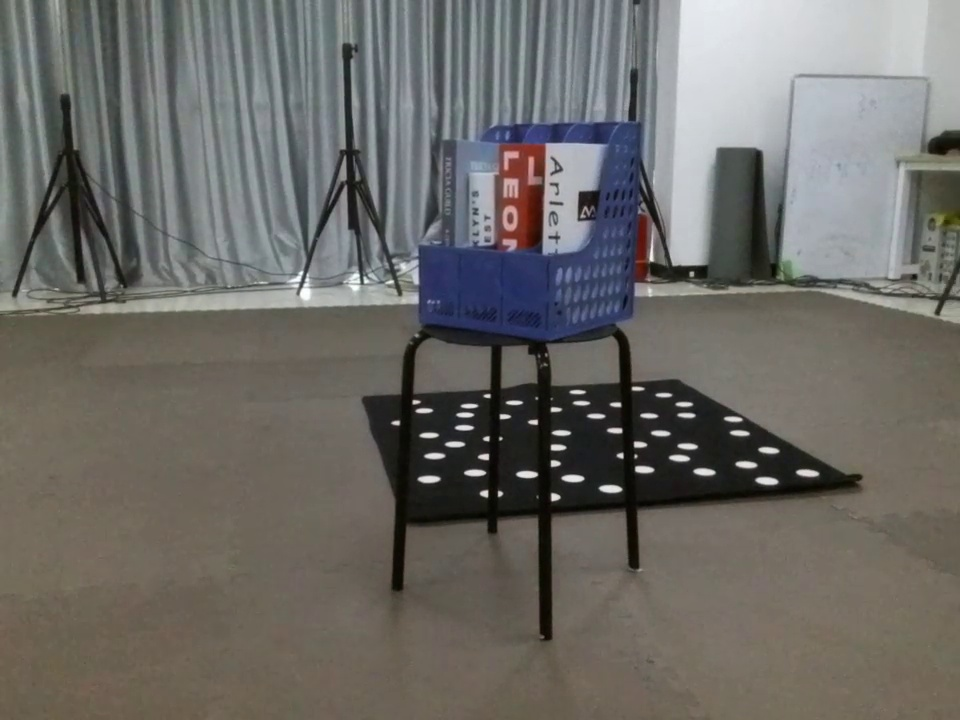files: (412, 106, 642, 346)
